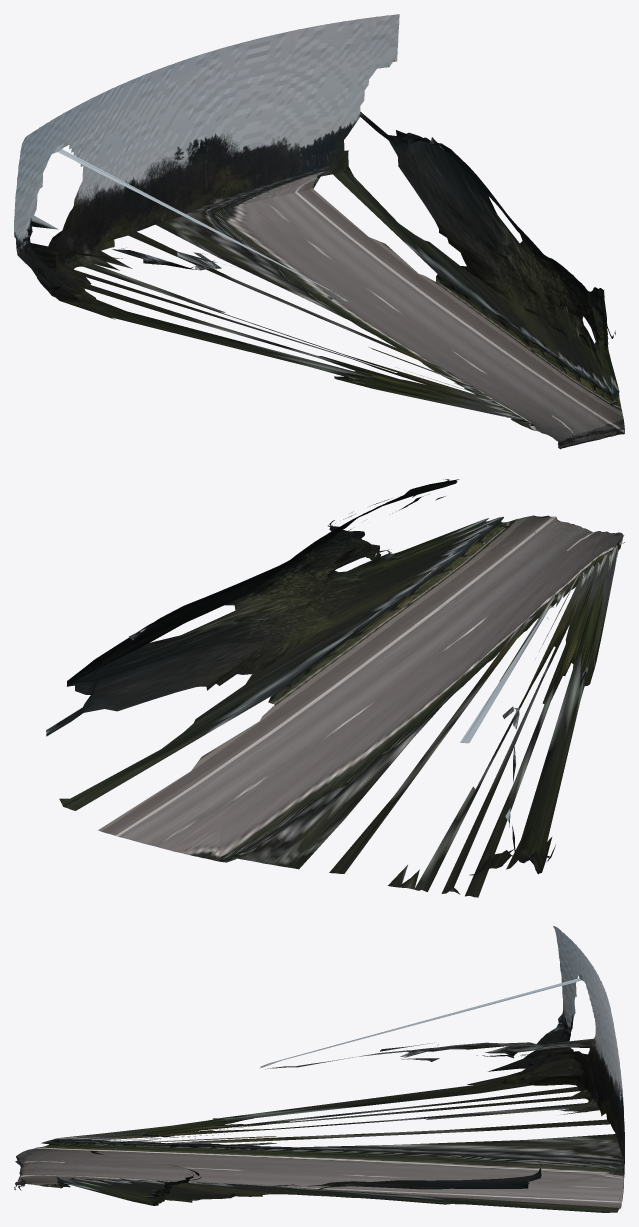
The picture shows the model from 3 angles, top to bottom: view 1: azimuth 30°, elevation 25°; view 2: azimuth 150°, elevation 25°; view 3: azimuth 270°, elevation 25°; orthographic projection. The views are drawn at different scales.
Visible parts, largest first — view 1: defaultobject; view 2: defaultobject; view 3: defaultobject.
Part boxes in pixels (left/top/right/bottom): defaultobject: left=14, top=14, right=624, bottom=449; defaultobject: left=46, top=479, right=624, bottom=897; defaultobject: left=14, top=926, right=624, bottom=1212.
Bounding box in the file's own units: 30.7 × 12.4 × 44.41.
Materials: 1 (1 with a texture image).
